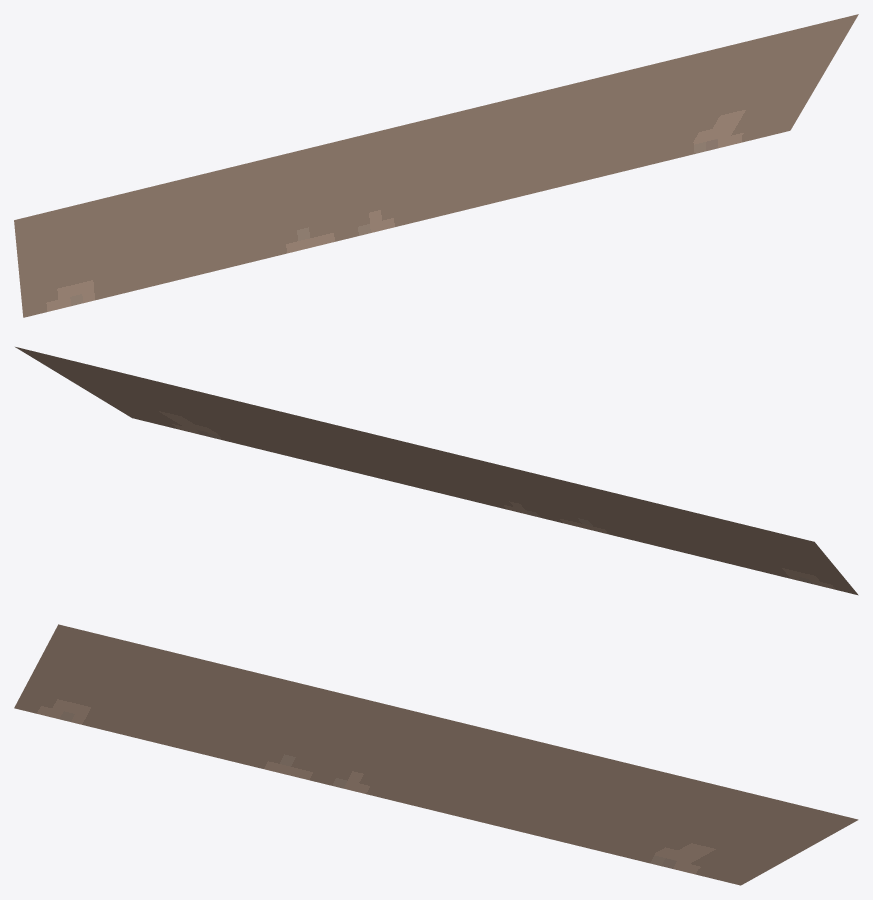
Rendered from kd_stage_135ded_4_52_bounded_piece_1.glb.
3 renders of one model, top to bottom at view 1: azimuth 30°, elevation 25°; view 2: azimuth 150°, elevation 25°; view 3: azimuth 330°, elevation 25°, orthographic. The views are drawn at different scales.
Visible parts, largest first — view 1: kd_stage_135ded_4_52_bounded_piece_1; view 2: kd_stage_135ded_4_52_bounded_piece_1; view 3: kd_stage_135ded_4_52_bounded_piece_1.
Part boxes in pixels (bbox=[...]): kd_stage_135ded_4_52_bounded_piece_1: bbox=[14, 14, 858, 317]; kd_stage_135ded_4_52_bounded_piece_1: bbox=[15, 347, 858, 595]; kd_stage_135ded_4_52_bounded_piece_1: bbox=[14, 624, 858, 885].
Bounding box in the file's own units: 0.2252 × 0.0181 × 0.0127.
1 material, 1 textured.
